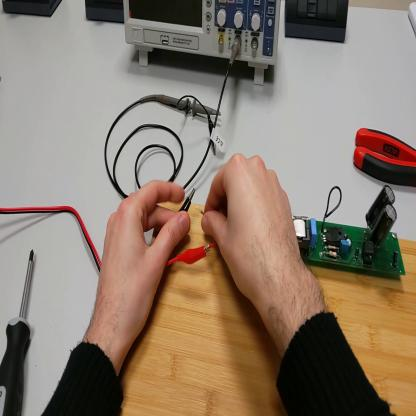hand: (94, 179, 190, 348), (204, 152, 305, 311)
high voltage board: (199, 184, 405, 275)
oscilloscope: (124, 2, 283, 84)
oscilloscope probe tip: (152, 91, 221, 120)
pliers: (355, 126, 416, 187)
screwdriver-: (2, 246, 36, 416)
socket: (2, 2, 63, 19), (86, 2, 126, 26)
working area: (120, 195, 416, 416)
